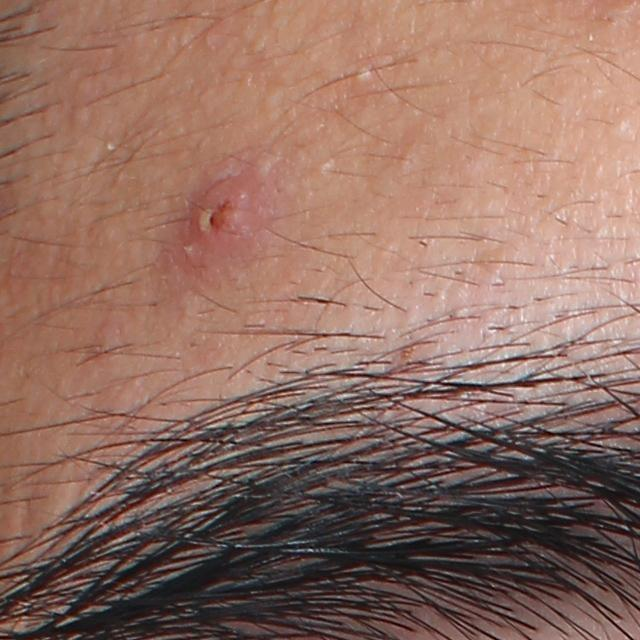comedo: (603, 108, 639, 148), (351, 61, 372, 84)
papule: (168, 156, 283, 271)
